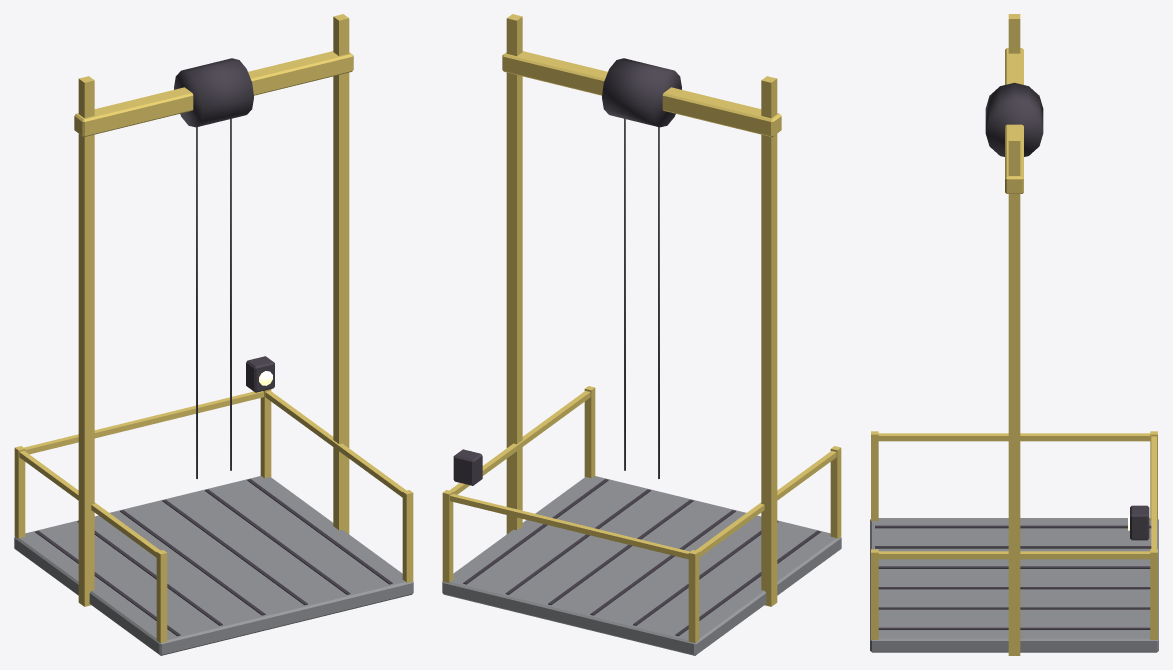
Rendered from v_ab_lift.glb.
3 renders of one model, left to right at view 1: azimuth 30°, elevation 25°; view 2: azimuth 150°, elevation 25°; view 3: azimuth 270°, elevation 25°, orthographic.
Parts seen in each view (by area): view 1: Lift; view 2: Lift; view 3: Lift.
Boxes of the visible parts, x1=… form: Lift: x1=14, y1=14, x2=413, y2=655; Lift: x1=442, y1=14, x2=841, y2=655; Lift: x1=870, y1=14, x2=1158, y2=655.
Bounding box in the file's own units: 3.2 × 5.9 × 3.
